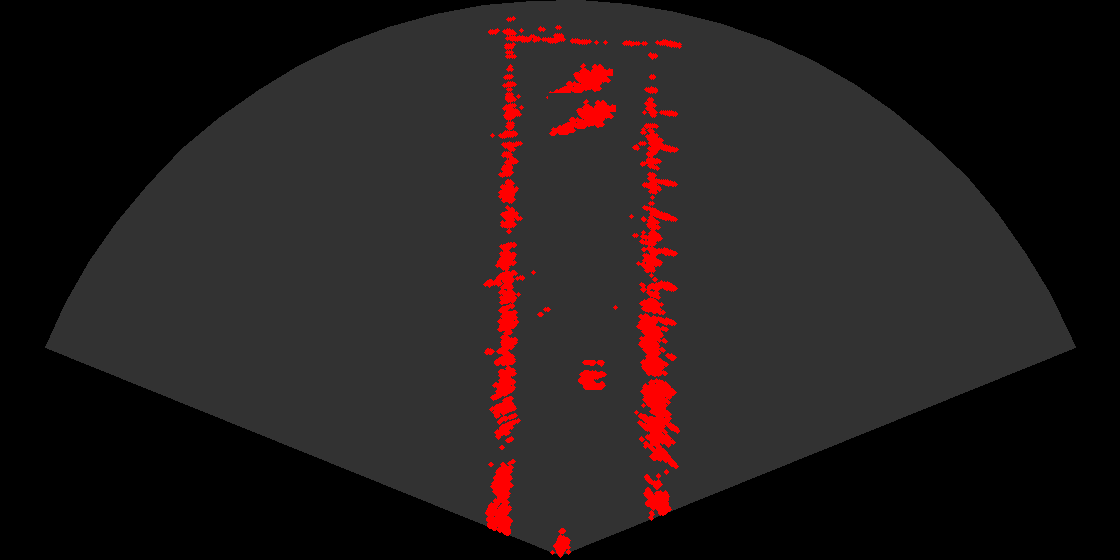ball: (558, 352, 618, 393)
frogman: (545, 57, 613, 104), (548, 93, 616, 140)
